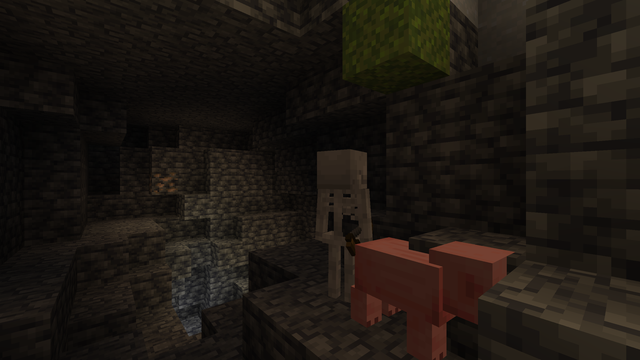cochons: (348, 234, 451, 352)
squelettes: (311, 149, 373, 314)
